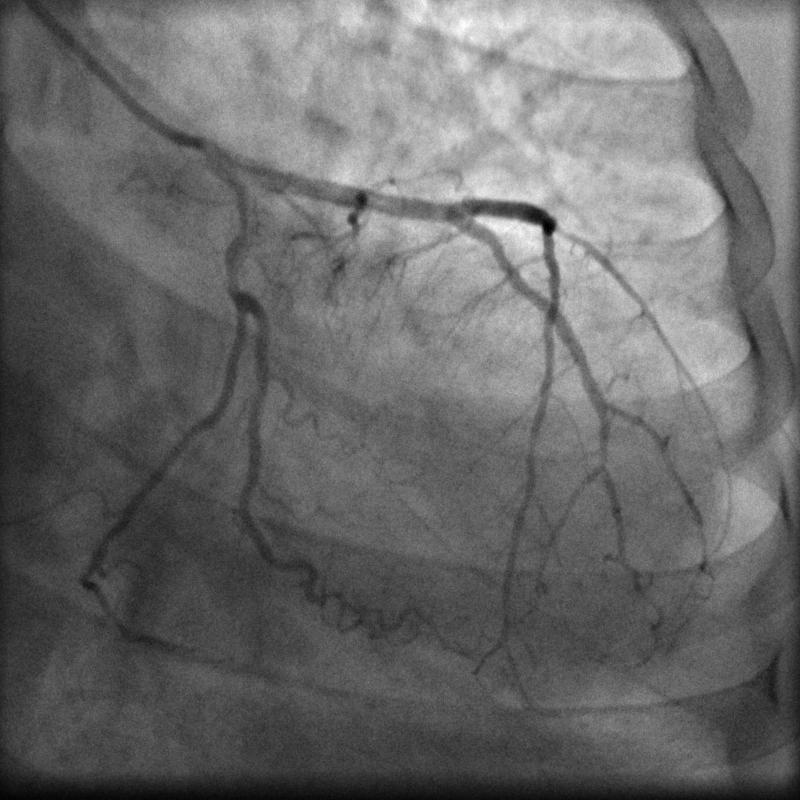Stenosis: (214, 252, 252, 294)
